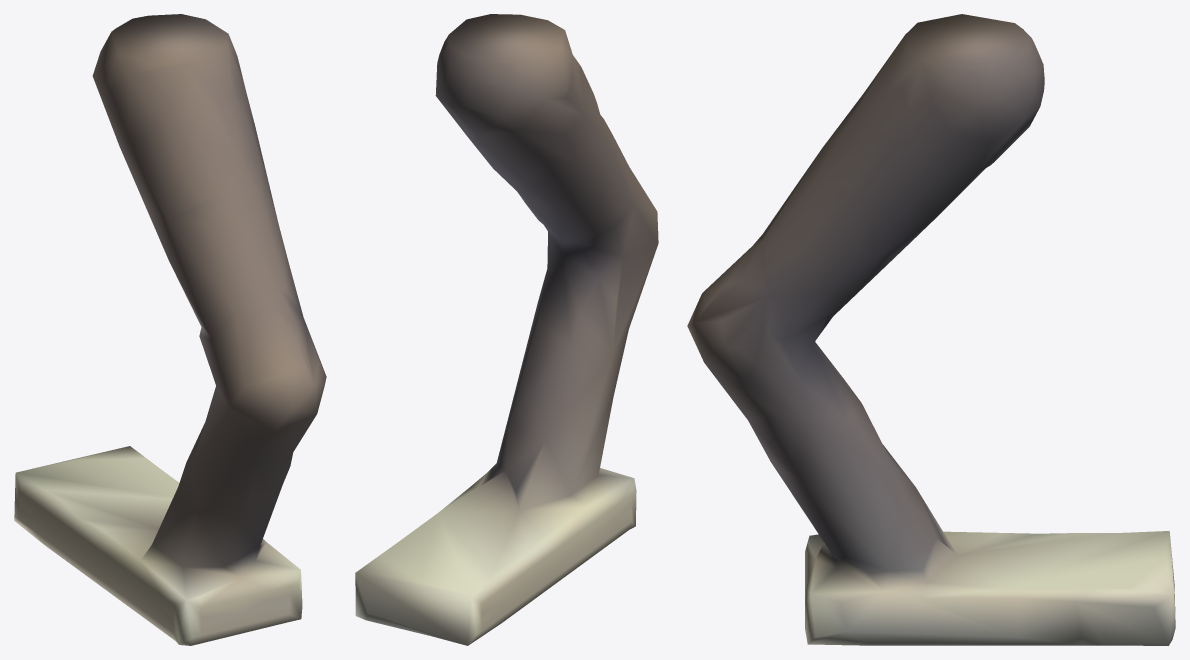
The model's file is husk_shin_l.glb.
The picture shows the model from 3 angles, left to right: view 1: azimuth 30°, elevation 25°; view 2: azimuth 150°, elevation 25°; view 3: azimuth 270°, elevation 25°; orthographic projection. The views are drawn at different scales.
Visible parts, largest first — view 1: geometry_0; view 2: geometry_0; view 3: geometry_0.
Boxes of the visible parts, x1,y1,x2,y2 form: geometry_0: (14, 14, 326, 645); geometry_0: (355, 14, 658, 645); geometry_0: (687, 14, 1175, 645).
Size of the model in its own units: 0.1426 by 0.5802 by 0.4478.
